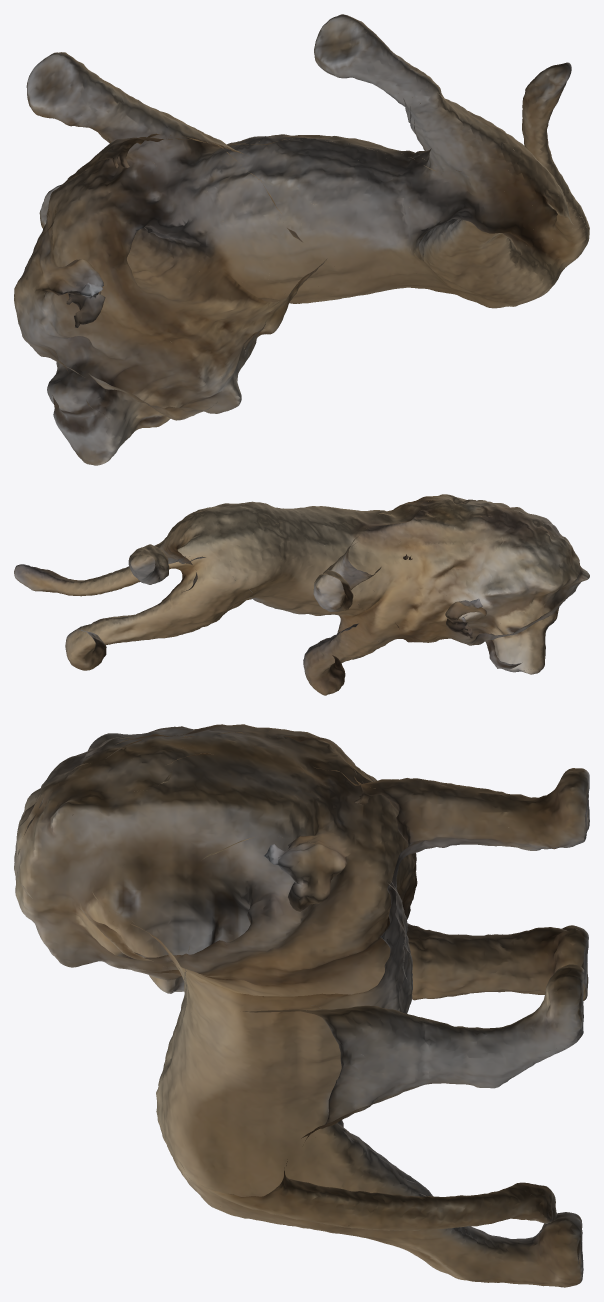
Rendered from lion.glb.
3 views of the same model, one above another, from view 1: azimuth 30°, elevation 25°; view 2: azimuth 150°, elevation 25°; view 3: azimuth 270°, elevation 25° (orthographic). The views are drawn at different scales.
Bounding box in the file's own units: 1 × 0.3644 × 0.6115.
